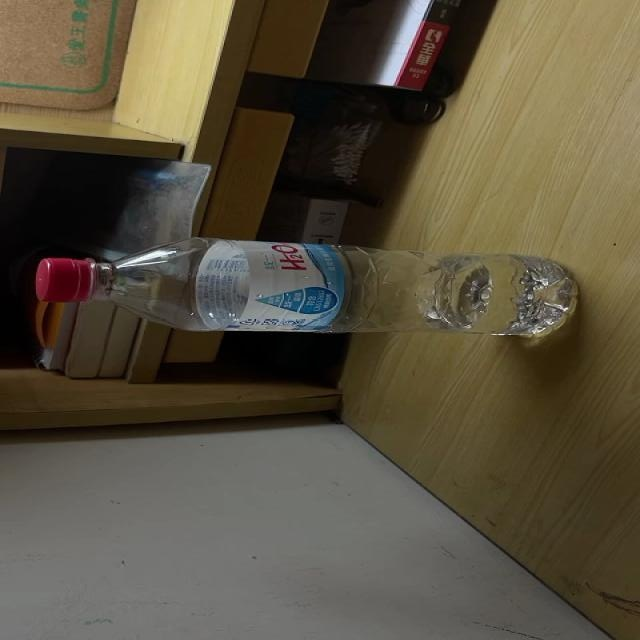Water: (36, 236, 578, 336)
